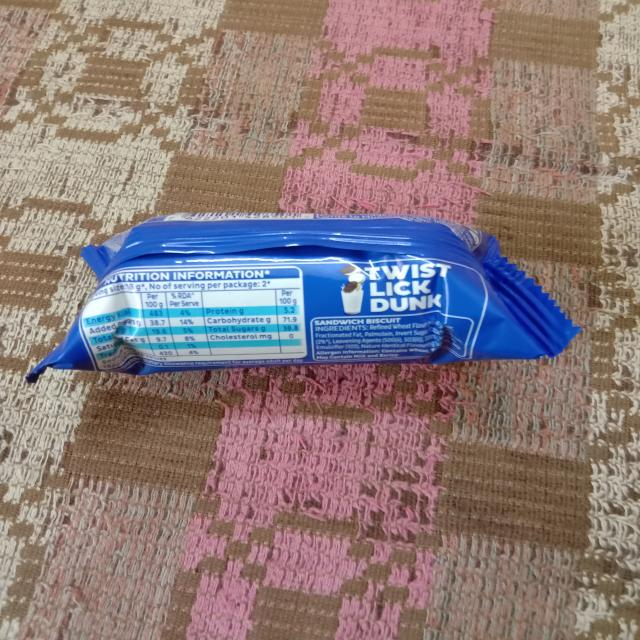oreo biscuit: (20, 213, 580, 393)
